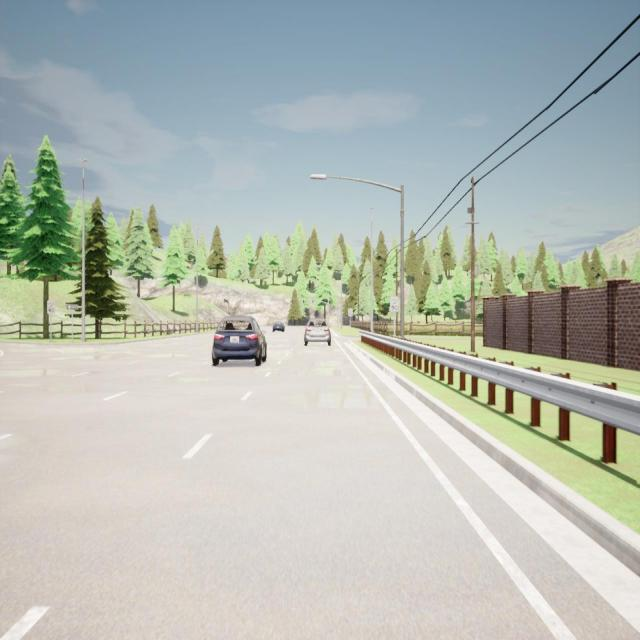Traffic_Signs: (390, 297, 399, 311), (47, 301, 55, 313), (67, 304, 78, 310), (348, 308, 353, 316)
Vehicle: (212, 316, 267, 366), (304, 318, 331, 346), (272, 321, 285, 332)
traffic_light: (312, 299, 314, 303), (292, 299, 293, 303), (303, 299, 304, 303)
